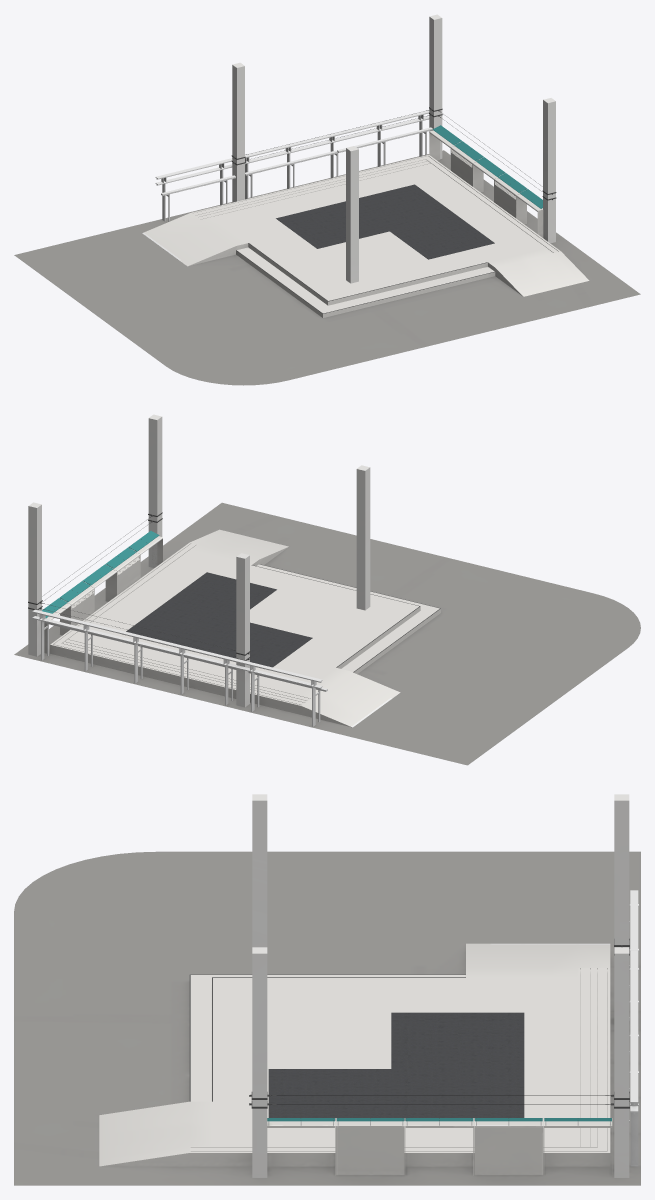
Rendered from room.dae.
The picture shows the model from 3 angles, top to bottom: view 1: azimuth 30°, elevation 25°; view 2: azimuth 150°, elevation 25°; view 3: azimuth 270°, elevation 25°; orthographic projection. The views are drawn at different scales.
Parts seen in each view (by area): view 1: Basement, Room_Main, Carpet, Aircon; view 2: Basement, Room_Main, Carpet, Aircon; view 3: Basement, Room_Main, Carpet, Aircon.
Part boxes in pixels (left/top/right/bottom): Basement: left=14, top=150, right=640, bottom=385; Room_Main: left=142, top=14, right=589, bottom=317; Carpet: left=276, top=184, right=494, bottom=259; Aircon: left=429, top=125, right=543, bottom=237; Basement: left=14, top=502, right=640, bottom=765; Room_Main: left=28, top=414, right=440, bottom=727; Carpet: left=126, top=572, right=312, bottom=667; Aircon: left=42, top=531, right=162, bottom=653; Basement: left=14, top=851, right=640, bottom=1185; Room_Main: left=99, top=794, right=639, bottom=1177; Carpet: left=268, top=1012, right=524, bottom=1120; Aircon: left=267, top=1118, right=612, bottom=1175.
Bounding box in the file's own units: 15.75 × 4.93 × 12.5.
6 materials, 4 textured.
